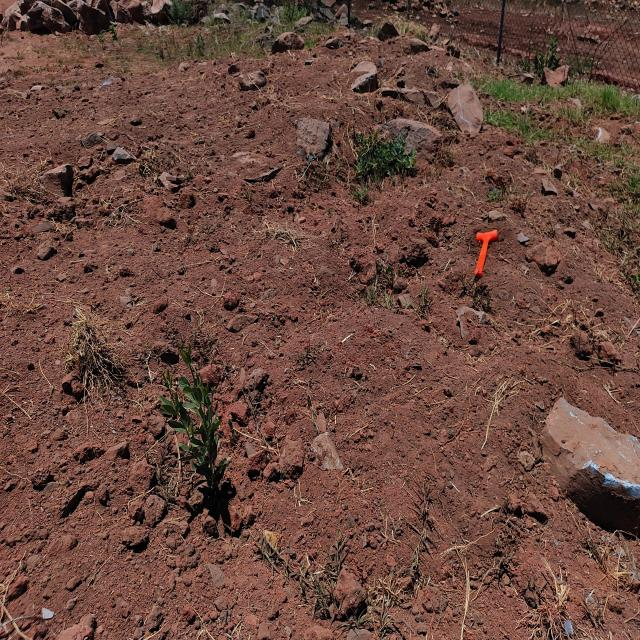Orange_hammer: (473, 228, 498, 277)
